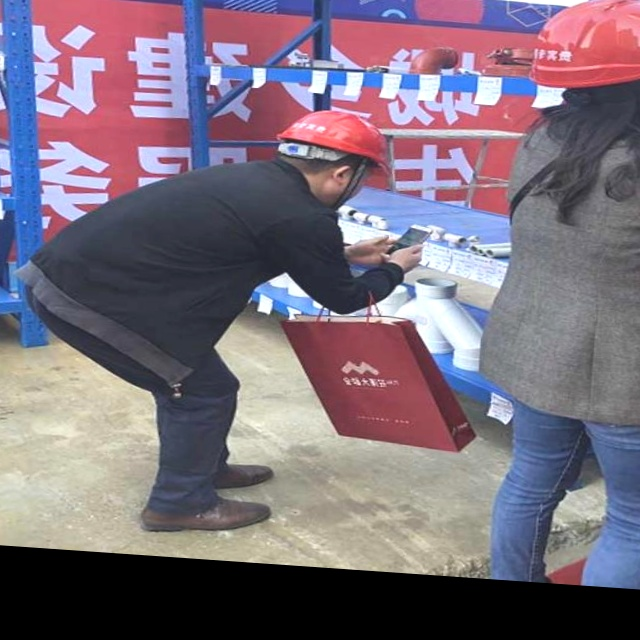Con_Casco: (529, 0, 640, 115), (274, 108, 392, 193)
